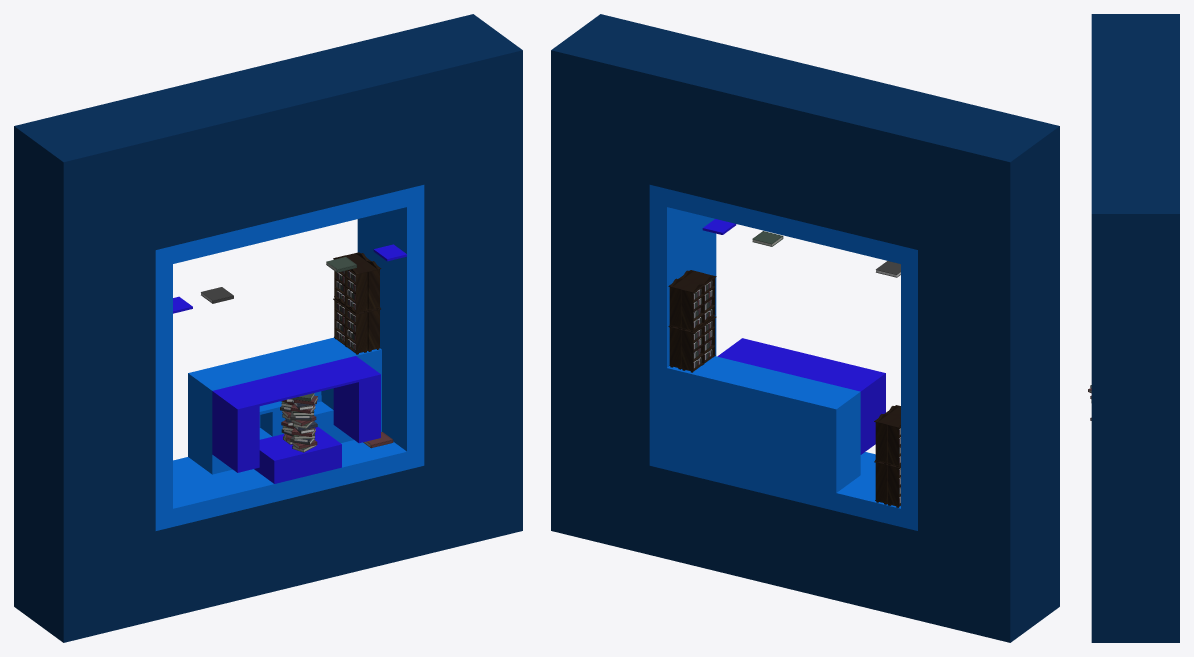
Rendered from FaceA2.glb.
The picture shows the model from 3 angles, left to right: view 1: azimuth 30°, elevation 25°; view 2: azimuth 150°, elevation 25°; view 3: azimuth 270°, elevation 25°; orthographic projection. The views are drawn at different scales.
Visible parts, largest first — view 1: paredeTRUETRUE-col.001, PlanoTrue-col.001, plataformadvdd-col.003, estante-col.006, plataformadvdd-col, plataformadvdd-col.001, plataformadvdd-col.002, PilhaDeLivros-col.003; view 2: paredeTRUETRUE-col.001, PlanoTrue-col.001, estante-col.006, plataformadvdd-col.003, estante-col, plataformadvdd-col.001; view 3: paredeTRUETRUE-col.001.
Boxes of the visible parts, box(x1,y1,x2,y2) form: paredeTRUETRUE-col.001: box(14, 14, 522, 642); PlanoTrue-col.001: box(155, 185, 424, 530); plataformadvdd-col.003: box(212, 356, 380, 411); estante-col.006: box(333, 252, 381, 354); plataformadvdd-col: box(254, 427, 341, 483); plataformadvdd-col.001: box(212, 393, 259, 472); plataformadvdd-col.002: box(333, 377, 380, 443); PilhaDeLivros-col.003: box(290, 393, 317, 452); paredeTRUETRUE-col.001: box(551, 14, 1059, 642); PlanoTrue-col.001: box(649, 185, 917, 530); estante-col.006: box(668, 270, 716, 372); plataformadvdd-col.003: box(717, 338, 885, 393); estante-col: box(874, 405, 900, 507); plataformadvdd-col.001: box(860, 375, 885, 454); paredeTRUETRUE-col.001: box(1091, 14, 1179, 642).
Size of the model in its own units: 509 by 509 by 98.69.
Materials: 156 (151 with a texture image).
